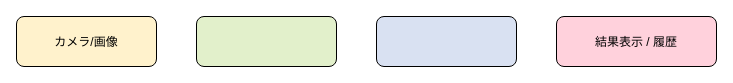
Some shapes in this 733 by 83 pixel diagram are drawn without their labels. Each missing label, with the centre of its shape:
"QR デコーダ" belongs at point (266, 41).
"予約検索" belongs at point (446, 41).
